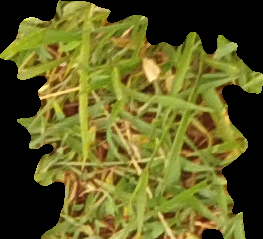grass: (1, 1, 262, 237)
